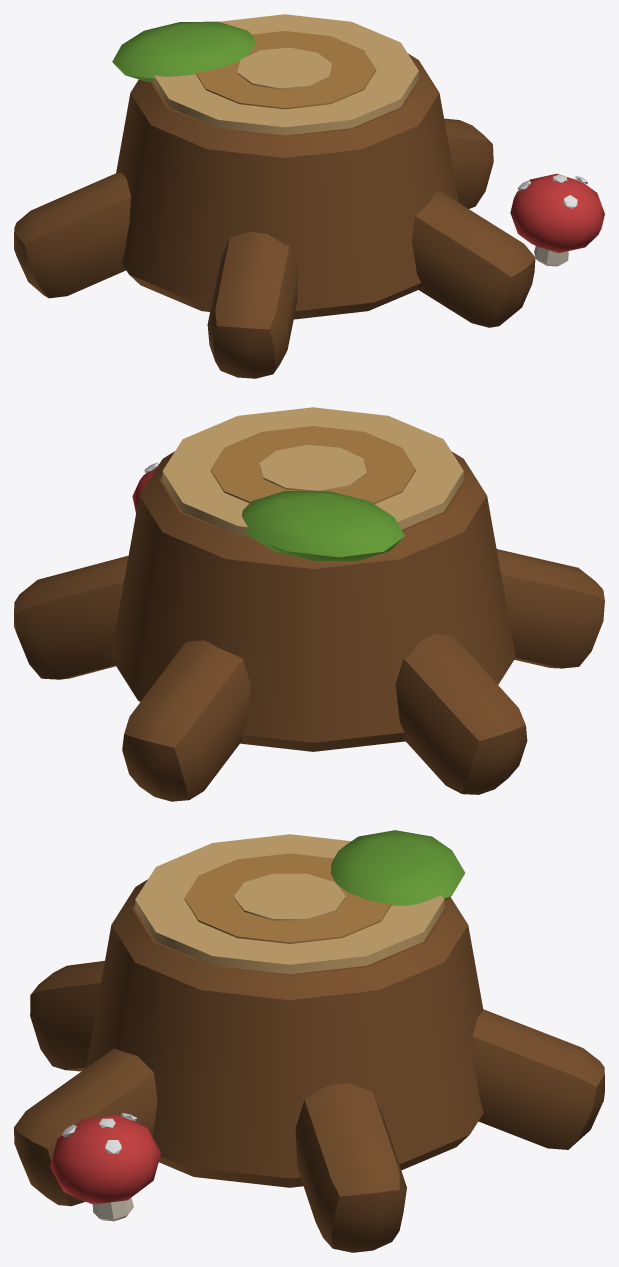
The model's file is p_stump_1.glb.
3 renders of one model, top to bottom at view 1: azimuth 30°, elevation 25°; view 2: azimuth 150°, elevation 25°; view 3: azimuth 270°, elevation 25°, orthographic. The views are drawn at different scales.
Visible parts, largest first — view 1: body; view 2: body; view 3: body.
Boxes of the visible parts, x1,y1,x2,y2 form: body: (14, 14, 604, 378); body: (14, 407, 604, 801); body: (14, 830, 604, 1252).
Bounding box in the file's own units: 1.74 × 0.794 × 1.68.
